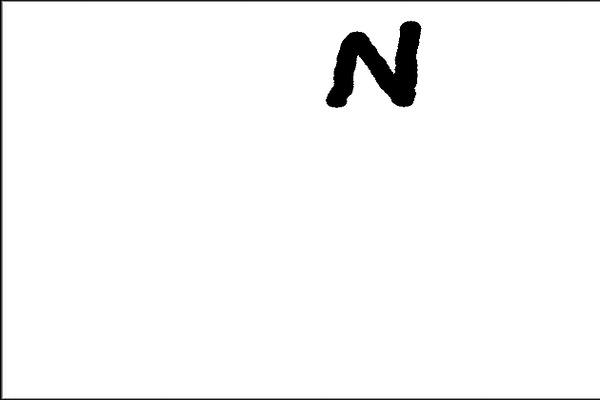N: (322, 16, 429, 114)
